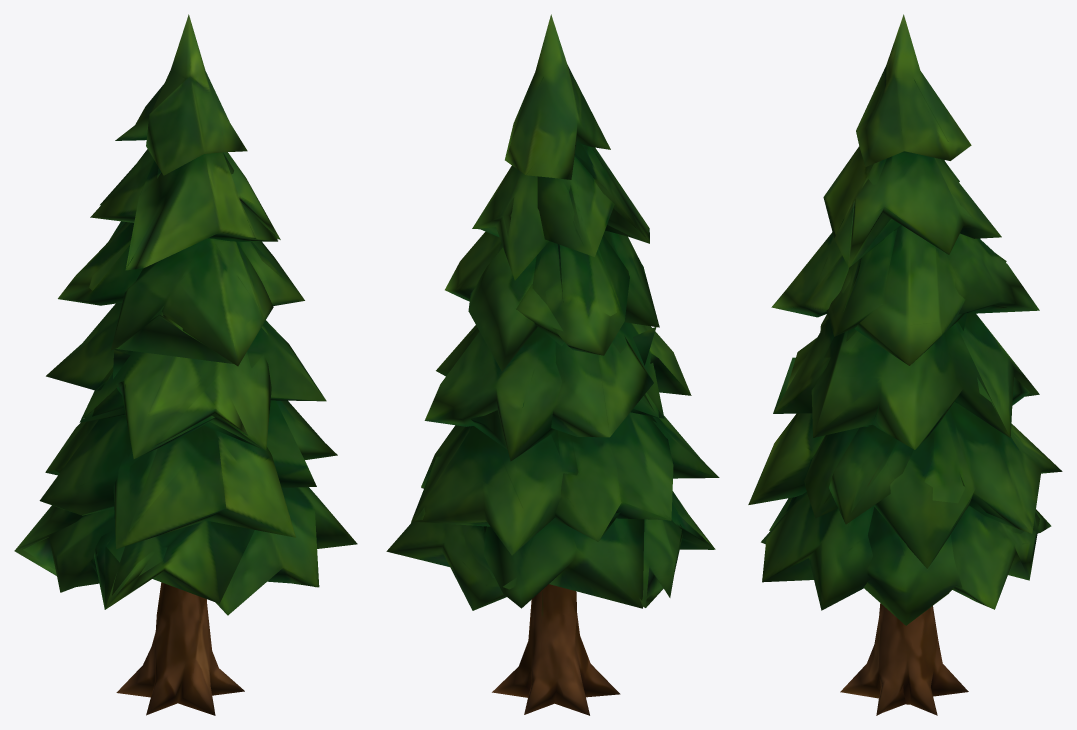
File: SpruceTree.glb
3 renders of one model, left to right at view 1: azimuth 30°, elevation 25°; view 2: azimuth 150°, elevation 25°; view 3: azimuth 270°, elevation 25°, orthographic.
Parts seen in each view (by area): view 1: SpruceTree; view 2: SpruceTree; view 3: SpruceTree.
Part boxes in pixels (bbox=[...]): SpruceTree: bbox=[14, 14, 357, 715]; SpruceTree: bbox=[386, 14, 719, 715]; SpruceTree: bbox=[748, 14, 1062, 715].
Size of the model in its own units: 0.3857 by 0.9512 by 0.3979.
1 material, 1 textured.
